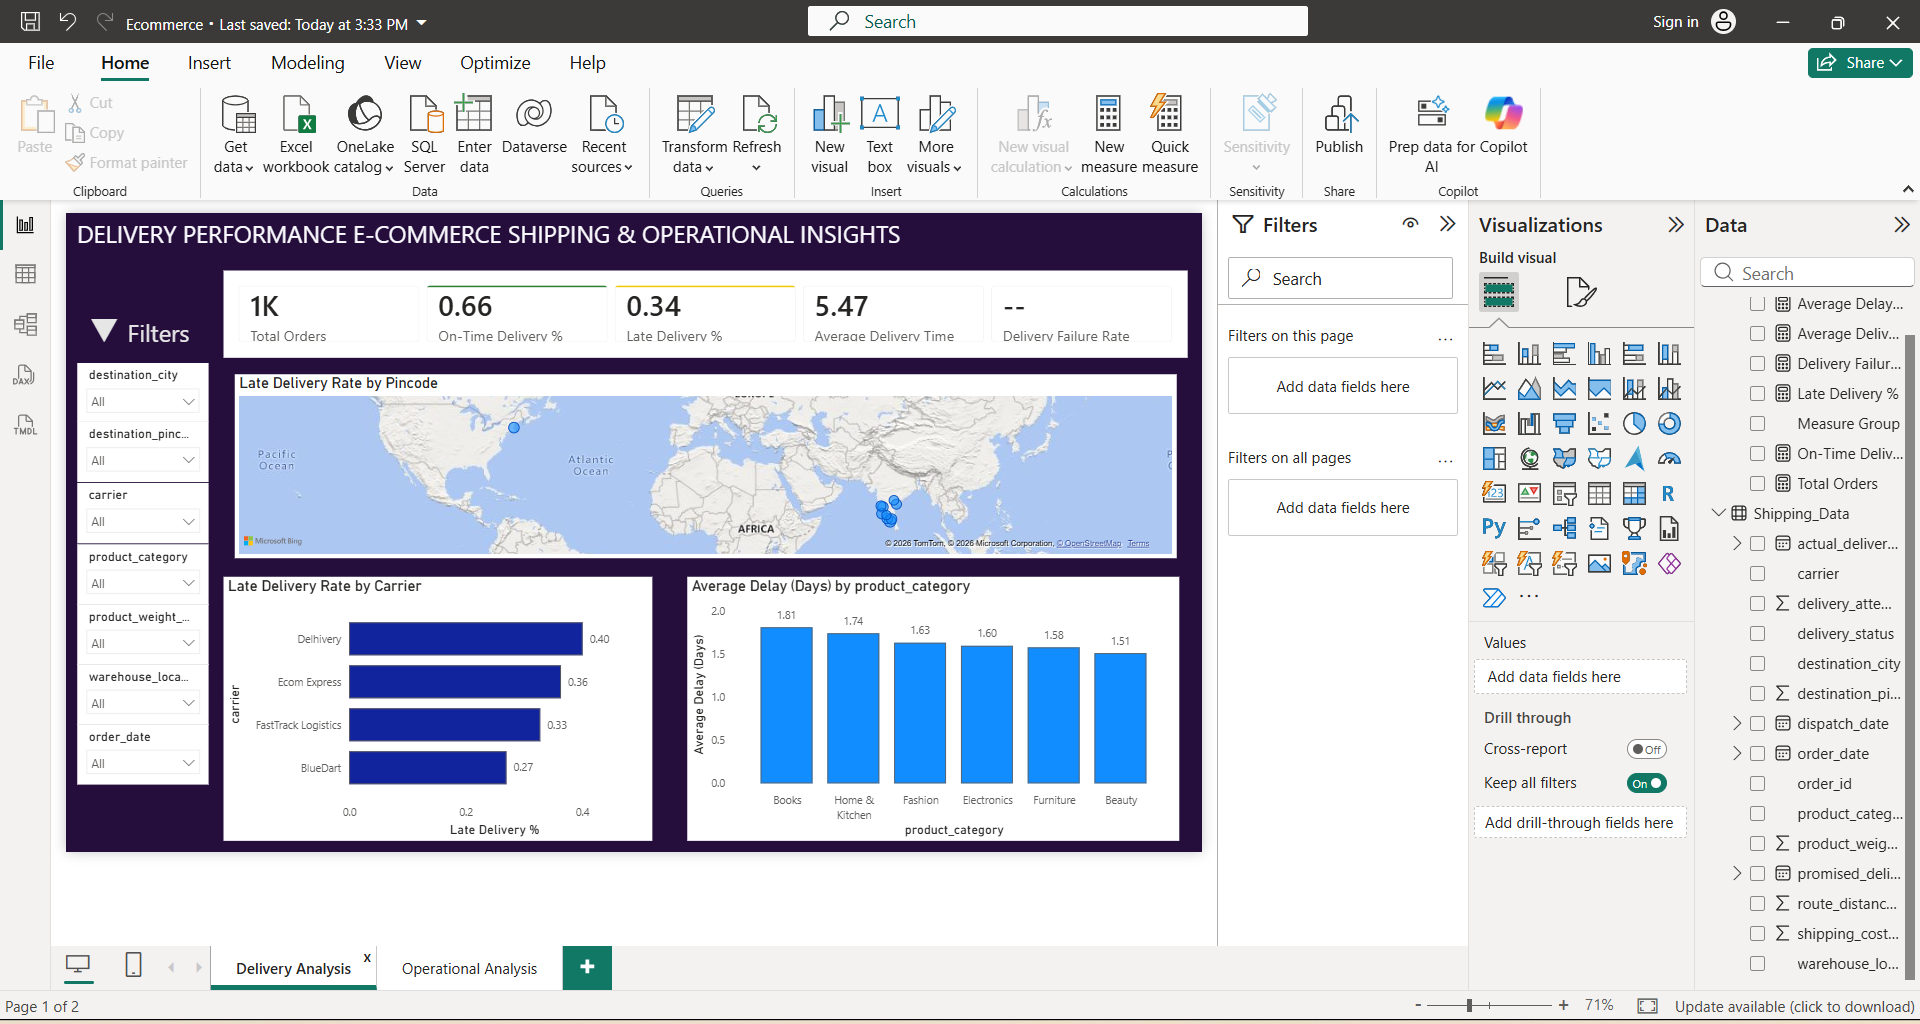

What the dashboard file says about the page in this screenshot:
{"tool":"powerbi","page":{"name":"Delivery Analysis","canvas":[1280,720],"ordinal":0},"visuals":[{"type":"textbox","box":[0,0,1132.4,53.5],"z":0},{"type":"cardVisual","fields":{"Data":["Key Measures.Total Orders","Key Measures.On-Time Delivery %","Key Measures.Late Delivery %","Key Measures.Average Delivery Time","Key Measures.Delivery Failure Rate"]},"box":[176.9,64.6,1086.2,98.5],"z":1000},{"type":"map","title":"Late Delivery Rate by Pincode","fields":{"Category":["Shipping_Data.destination_city","Shipping_Data.destination_pincode"],"Size":["Key Measures.Late Delivery %"]},"box":[190.1,181.7,1060.6,207],"z":2000},{"type":"clusteredBarChart","title":"Late Delivery Rate by Carrier","fields":{"Category":["Shipping_Data.carrier"],"Y":["Key Measures.Late Delivery %"]},"box":[177.5,409.9,501.4,298.6],"z":3000},{"type":"clusteredColumnChart","fields":{"Category":["Shipping_Data.product_category"],"Y":["Key Measures.Average Delay (Days)"]},"box":[700,409.9,563.4,298.6],"z":4000},{"type":"slicer","fields":{"Values":["Shipping_Data.destination_city"]},"box":[12.7,169,147.9,66.2],"z":5000},{"type":"slicer","fields":{"Values":["Shipping_Data.destination_pincode"]},"box":[12.3,235.8,148.1,67.9],"z":6000},{"type":"slicer","fields":{"Values":["Shipping_Data.carrier"]},"box":[12.3,303.7,148.1,67.9],"z":7000},{"type":"slicer","fields":{"Values":["Shipping_Data.product_category"]},"box":[12.3,372.8,148.1,67.9],"z":8000},{"type":"slicer","fields":{"Values":["Shipping_Data.product_weight_kg"]},"box":[12.3,440.7,148.1,67.9],"z":9000},{"type":"slicer","fields":{"Values":["Shipping_Data.warehouse_location"]},"box":[12.3,508.6,148.1,67.9],"z":10000},{"type":"slicer","fields":{"Values":["Shipping_Data.order_date"]},"box":[12.3,576.5,148.1,67.9],"z":11000},{"type":"textbox","box":[12.7,64.8,147.9,98.6],"z":12000}]}

Visuals, with their boxes on the page's 1280x720 design canvas (x1, y1, x2, y2). These are canvas units, not pixel positions in the 1920x1024 screenshot, which may show the page scaled, cropped or inside an application window:
textbox: pyautogui.locateOnScreen(0, 0, 1132, 54)
cardVisual - Key Measures.Total Orders x Key Measures.On-Time Delivery %: pyautogui.locateOnScreen(177, 65, 1263, 163)
"Late Delivery Rate by Pincode" map: pyautogui.locateOnScreen(190, 182, 1251, 389)
"Late Delivery Rate by Carrier" clusteredBarChart: pyautogui.locateOnScreen(178, 410, 679, 708)
clusteredColumnChart - Shipping_Data.product_category x Key Measures.Average Delay (Days): pyautogui.locateOnScreen(700, 410, 1263, 708)
slicer - Shipping_Data.destination_city: pyautogui.locateOnScreen(13, 169, 161, 235)
slicer - Shipping_Data.destination_pincode: pyautogui.locateOnScreen(12, 236, 160, 304)
slicer - Shipping_Data.carrier: pyautogui.locateOnScreen(12, 304, 160, 372)
slicer - Shipping_Data.product_category: pyautogui.locateOnScreen(12, 373, 160, 441)
slicer - Shipping_Data.product_weight_kg: pyautogui.locateOnScreen(12, 441, 160, 509)
slicer - Shipping_Data.warehouse_location: pyautogui.locateOnScreen(12, 509, 160, 576)
slicer - Shipping_Data.order_date: pyautogui.locateOnScreen(12, 576, 160, 644)
textbox: pyautogui.locateOnScreen(13, 65, 161, 163)
